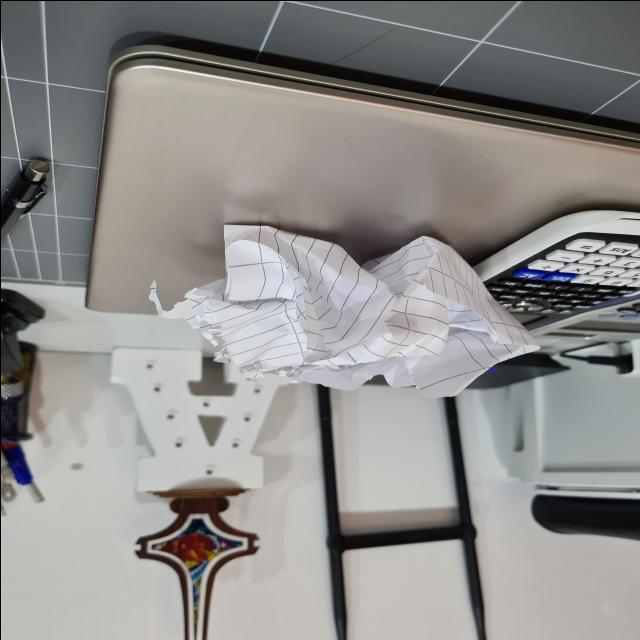kertas: (178, 223, 528, 386)
